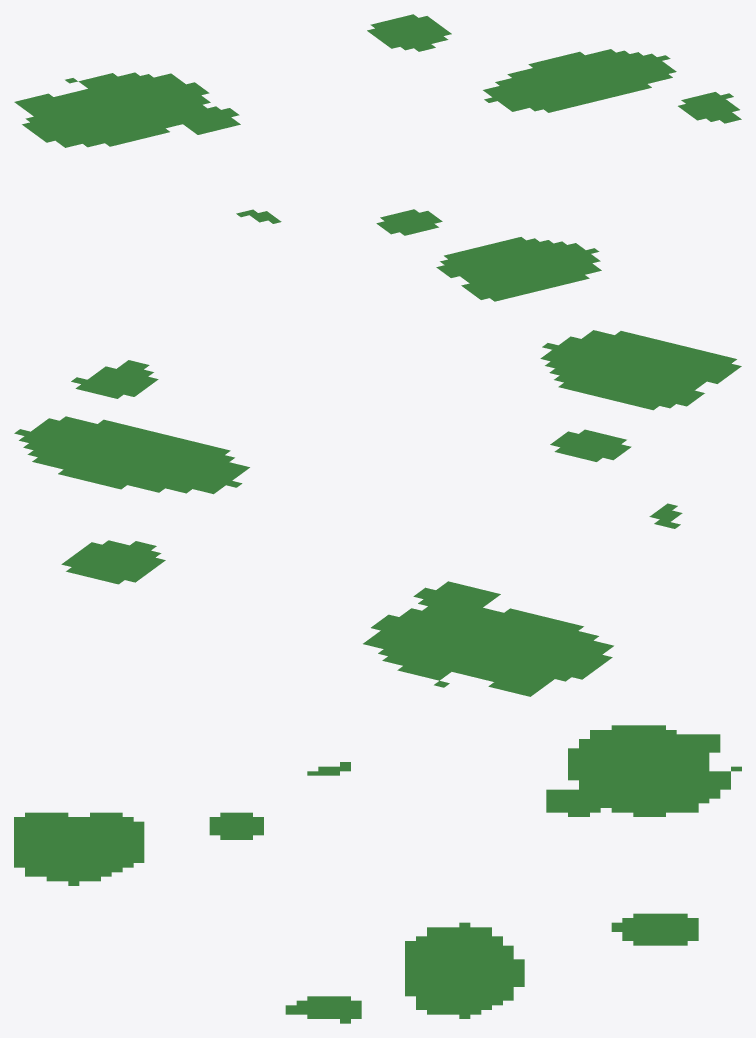
File: Isl-flat2-TreesArea.fbx
3 views of the same model, one above another, from view 1: azimuth 30°, elevation 25°; view 2: azimuth 150°, elevation 25°; view 3: azimuth 270°, elevation 25° (orthographic). The views are drawn at different scales.
Parts seen in each view (by area): view 1: Isl-flat2-TreesArea; view 2: Isl-flat2-TreesArea; view 3: Isl-flat2-TreesArea.
Part boxes in pixels (box(x1,y1,x2,y2)): Isl-flat2-TreesArea: box(14, 14, 741, 301); Isl-flat2-TreesArea: box(14, 330, 741, 696); Isl-flat2-TreesArea: box(14, 725, 741, 1023).
Bounding box in the file's own units: 65 × 0 × 67.
